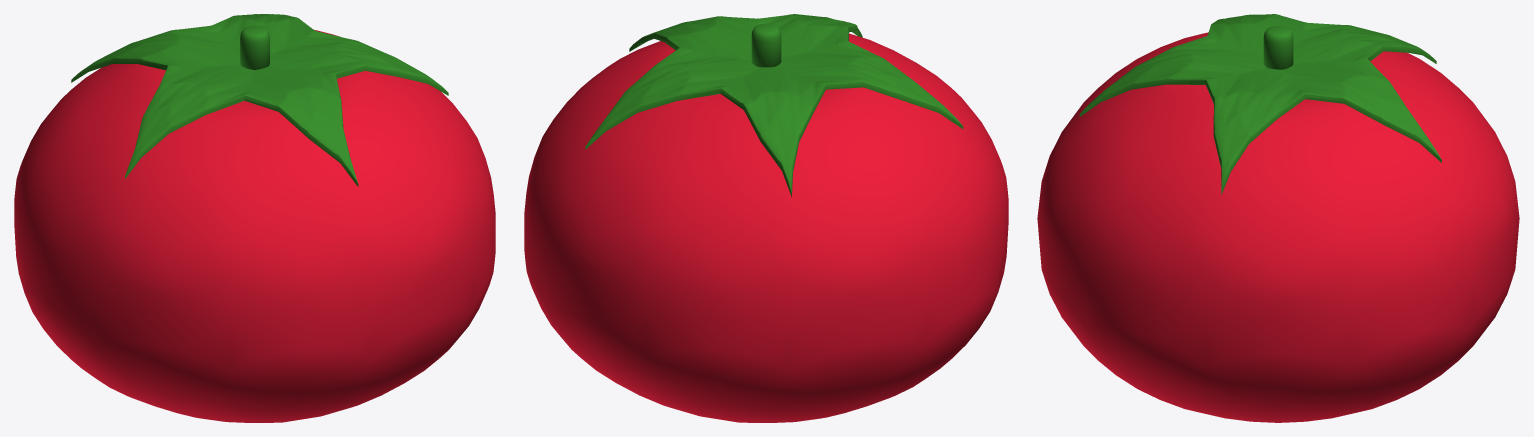
The model's file is just-tomato.fbx.
3 renders of one model, left to right at view 1: azimuth 30°, elevation 25°; view 2: azimuth 150°, elevation 25°; view 3: azimuth 270°, elevation 25°, orthographic.
Parts seen in each view (by area): view 1: tomato 1; view 2: tomato 1; view 3: tomato 1.
Part boxes in pixels (x1,y1,x2,y2): tomato 1: [14, 14, 495, 422]; tomato 1: [524, 14, 1008, 422]; tomato 1: [1037, 14, 1519, 422].
Bounding box in the file's own units: 93.53 × 78.01 × 93.65.
